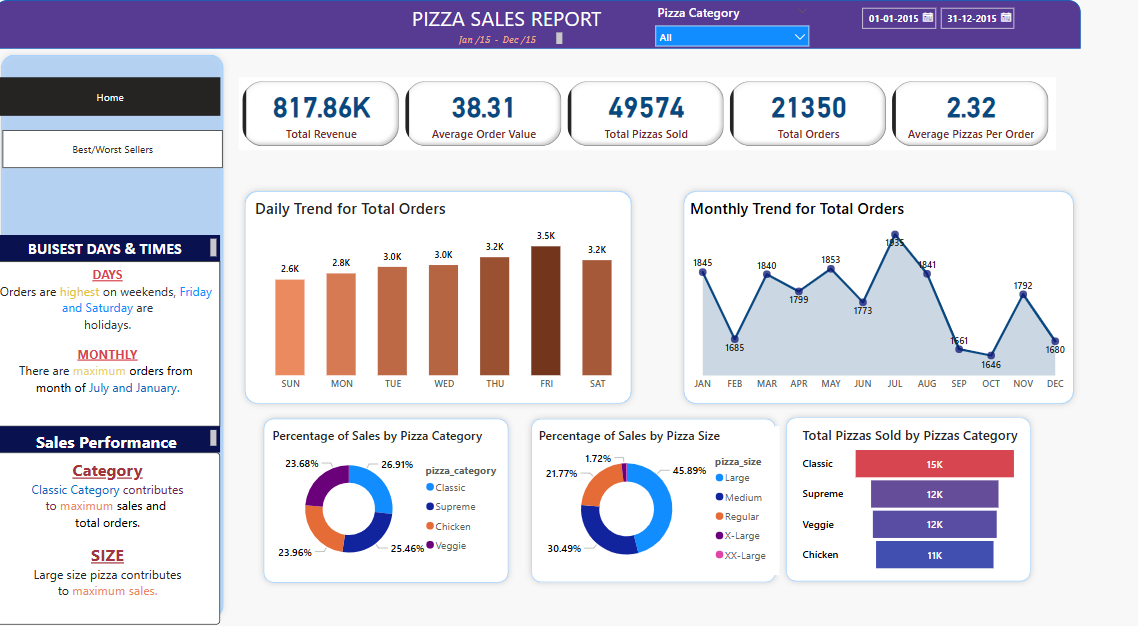

The page's visual inventory and layout, read from the dashboard file:
{"tool":"powerbi","page":{"name":"Home","canvas":[1500,820],"ordinal":0},"visuals":[{"type":"cardVisual","fields":{"Data":["pizza_sales.Total Revenue","pizza_sales.Average Order Value","pizza_sales.Total Pizzas Sold","pizza_sales.Total Orders","pizza_sales.Average Pizzas Per Order"]},"box":[320,101.7,1071.7,95],"z":0},{"type":"shape","box":[0,0,1423.9,64.2],"z":1000},{"type":"textbox","box":[514.1,0,312.8,51.3],"z":2000},{"type":"textbox","box":[603.8,38.5,146.2,25.6],"z":3000},{"type":"shape","box":[320,243.3,523.3,295],"z":4000},{"type":"columnChart","title":"Daily Trend for Total Orders","fields":{"Category":["pizza_sales.Order Day"],"Y":["pizza_sales.Total Orders"]},"box":[336.7,258.3,506.7,263.3],"z":5000},{"type":"shape","box":[895.5,243.3,528.4,295.5],"z":6000},{"type":"areaChart","title":"Monthly Trend for Total Orders","fields":{"Category":["pizza_sales.Order Month"],"Y":["pizza_sales.Total Orders"]},"box":[906,259.7,506,262.7],"z":7000},{"type":"shape","box":[344.8,541.8,337.3,231.3],"z":8000},{"type":"shape","box":[695,541.7,337,231],"z":9000},{"type":"shape","box":[1029.9,538.8,337,231.3],"z":10000},{"type":"donutChart","title":"Percentage of Sales by Pizza Category","fields":{"Category":["pizza_sales.pizza_category"],"Y":["pizza_sales.Total Revenue"]},"box":[358.2,559.7,310.4,195.5],"z":11000},{"type":"donutChart","title":"Percentage of Sales by Pizza Size","fields":{"Category":["pizza_sales.pizza_size"],"Y":["pizza_sales.Total Revenue"]},"box":[709,559.7,320.9,195.5],"z":12000},{"type":"shape","box":[0,64.6,307.7,755.4],"z":13000},{"type":"funnel","title":"Total Pizzas Sold by Pizzas Category","fields":{"Y":["pizza_sales.Total Pizzas Sold"],"Category":["pizza_sales.pizza_category"]},"box":[1053.7,559.7,292.5,195.5],"z":14000},{"type":"textbox","box":[0,309,295.5,34.3],"z":15000},{"type":"textbox","box":[0,343.3,295.5,216.4],"z":16000},{"type":"textbox","box":[0,559.7,295.5,34.3],"z":17000},{"type":"textbox","box":[0,594,295.5,225.4],"z":18000},{"type":"slicer","fields":{"Values":["pizza_sales.pizza_category"]},"box":[855.2,0,222.4,64.2],"z":19000},{"type":"slicer","fields":{"Values":["pizza_sales.order_date"]},"box":[1125.4,0,220.9,64.2],"z":20000},{"type":"pageNavigator","box":[6.2,101.5,289.2,50.8],"z":20001},{"type":"pageNavigator","box":[9.2,170.8,289.2,50.8],"z":20002}]}

Visuals, with their boxes in screenshot pixels (x1, y1, x2, y2), scaled from the page's 1500x820 canvas onto the 1138x626 screenshot:
cardVisual - pizza_sales.Total Revenue x pizza_sales.Average Order Value: l=243, t=78, r=1056, b=150
shape: l=0, t=0, r=1080, b=49
textbox: l=390, t=0, r=627, b=39
textbox: l=458, t=29, r=569, b=49
shape: l=243, t=186, r=640, b=411
"Daily Trend for Total Orders" columnChart: l=255, t=197, r=640, b=398
shape: l=679, t=186, r=1080, b=411
"Monthly Trend for Total Orders" areaChart: l=687, t=198, r=1071, b=399
shape: l=262, t=414, r=517, b=590
shape: l=527, t=414, r=783, b=590
shape: l=781, t=411, r=1037, b=588
"Percentage of Sales by Pizza Category" donutChart: l=272, t=427, r=507, b=577
"Percentage of Sales by Pizza Size" donutChart: l=538, t=427, r=781, b=577
shape: l=0, t=49, r=233, b=625
"Total Pizzas Sold by Pizzas Category" funnel: l=799, t=427, r=1021, b=577
textbox: l=0, t=236, r=224, b=262
textbox: l=0, t=262, r=224, b=427
textbox: l=0, t=427, r=224, b=453
textbox: l=0, t=453, r=224, b=625
slicer - pizza_sales.pizza_category: l=649, t=0, r=818, b=49
slicer - pizza_sales.order_date: l=854, t=0, r=1021, b=49
pageNavigator: l=5, t=77, r=224, b=116
pageNavigator: l=7, t=130, r=226, b=169
